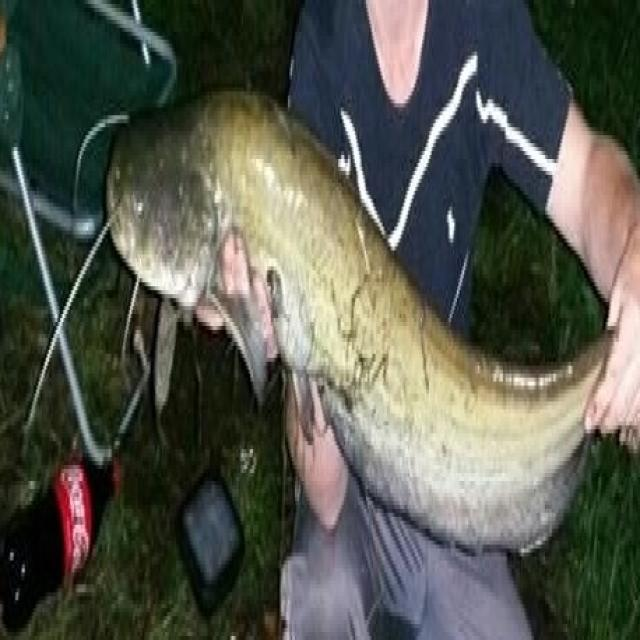Catfish: (80, 91, 628, 593)
